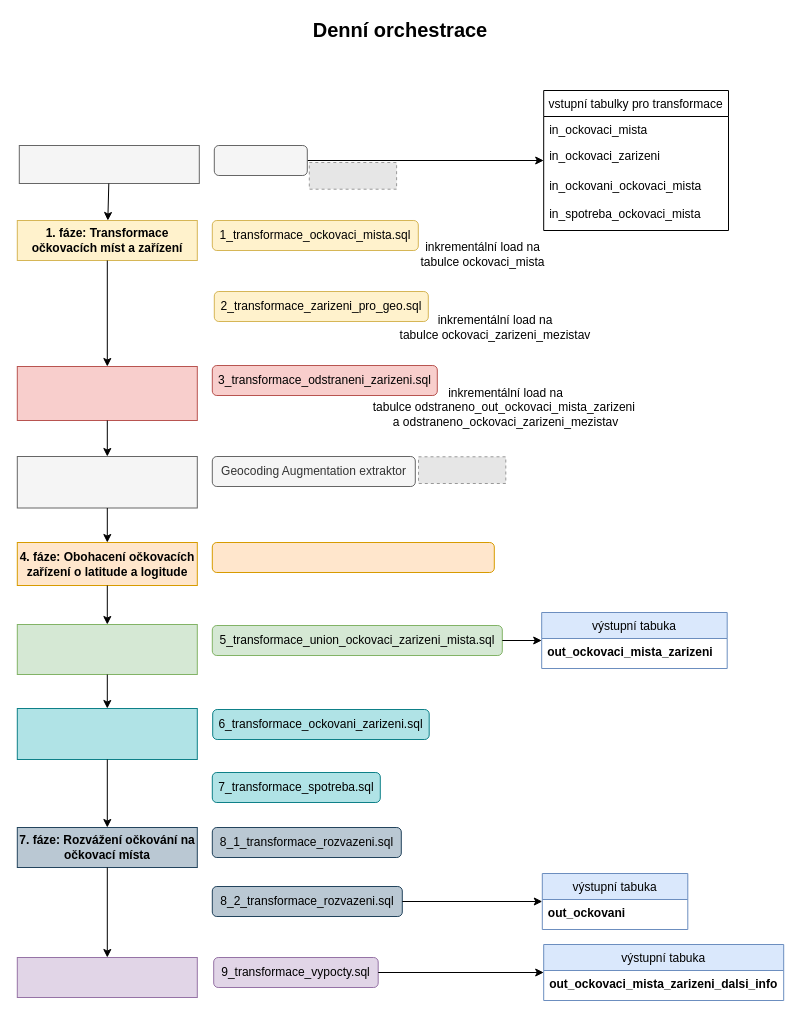
This 802x1020 diagram has some shape labels left out. Grey dashed boxes stand in for pictures. Each missing label, with the centre of its shape:
0. fáze: Načtení všech vstupních dat: point (108, 164)
2. fáze: Odstranění zařízení, která se přesunula do očkovacích míst: point (106, 393)
3. fáze: Zjištění latitude a longitude pro očkovací zařízení: point (106, 482)
4_transformace_ockovaci_zarizeni_obohaceni.sql: point (352, 557)
5. fáze: Vytvoření kompletního číselníku očkovacích míst pro Tableau: point (106, 649)
6. fáze: Transformace vstupních tabulek se spotřebou a očkováním: point (106, 734)
8. fáze: Dodatečné výpočty pro vizualizaci: point (106, 977)
HTTP extraktor: point (260, 160)
